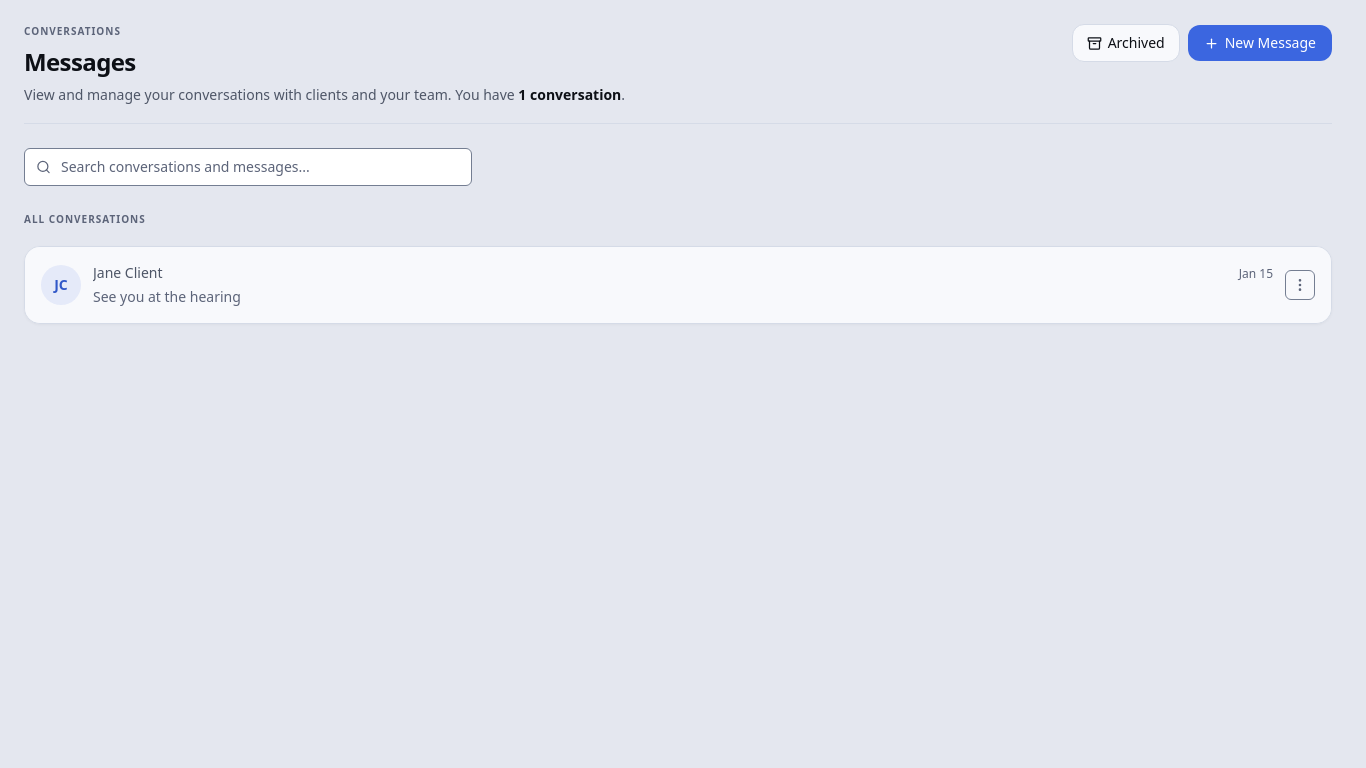
a refused action: the archive fails › tells the user the conversation was not archived, and leaves it in the inbox
Expected: the heading "Jane Client" is shown, [93,263,162,282]
Click the button named "Conversation actions": (1300, 285) [1285,270,1315,300]
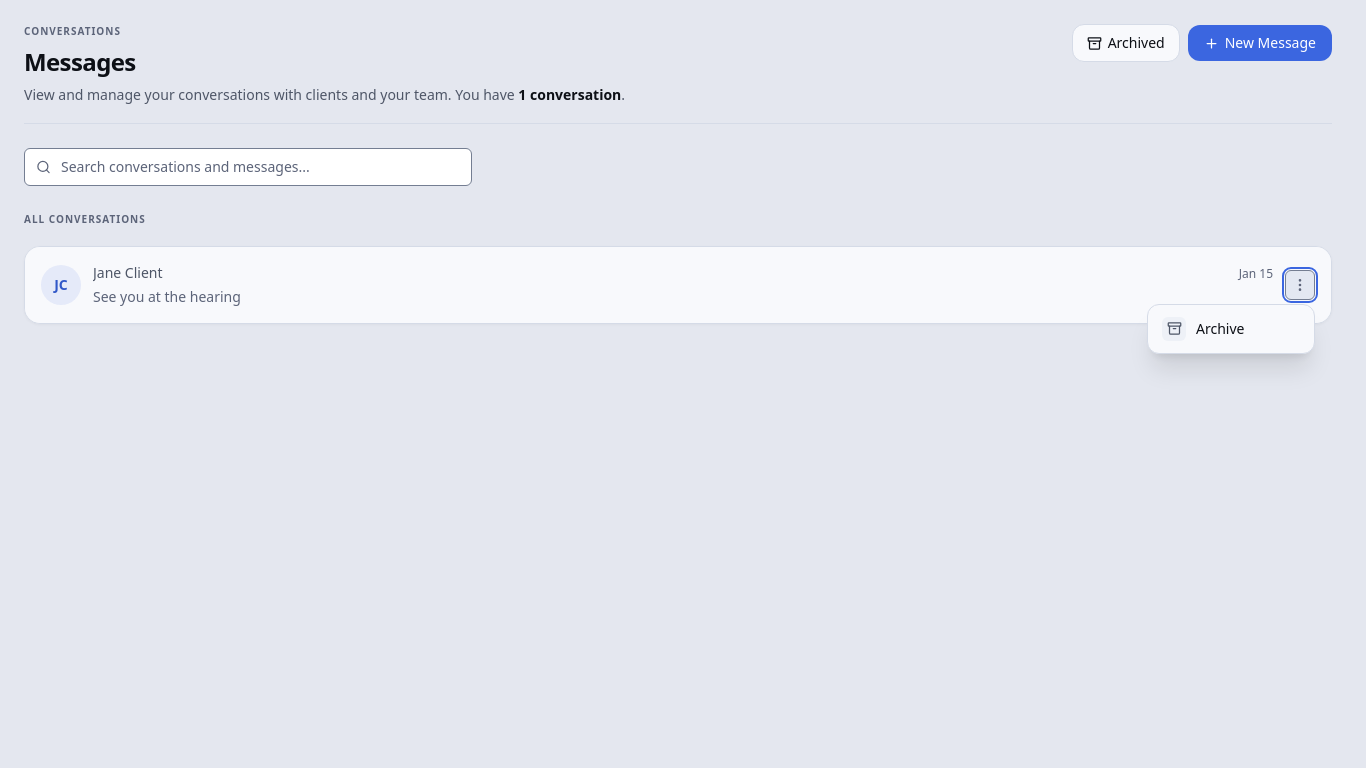
Click the menu item "Archive": (1231, 329) [1152,309,1310,349]
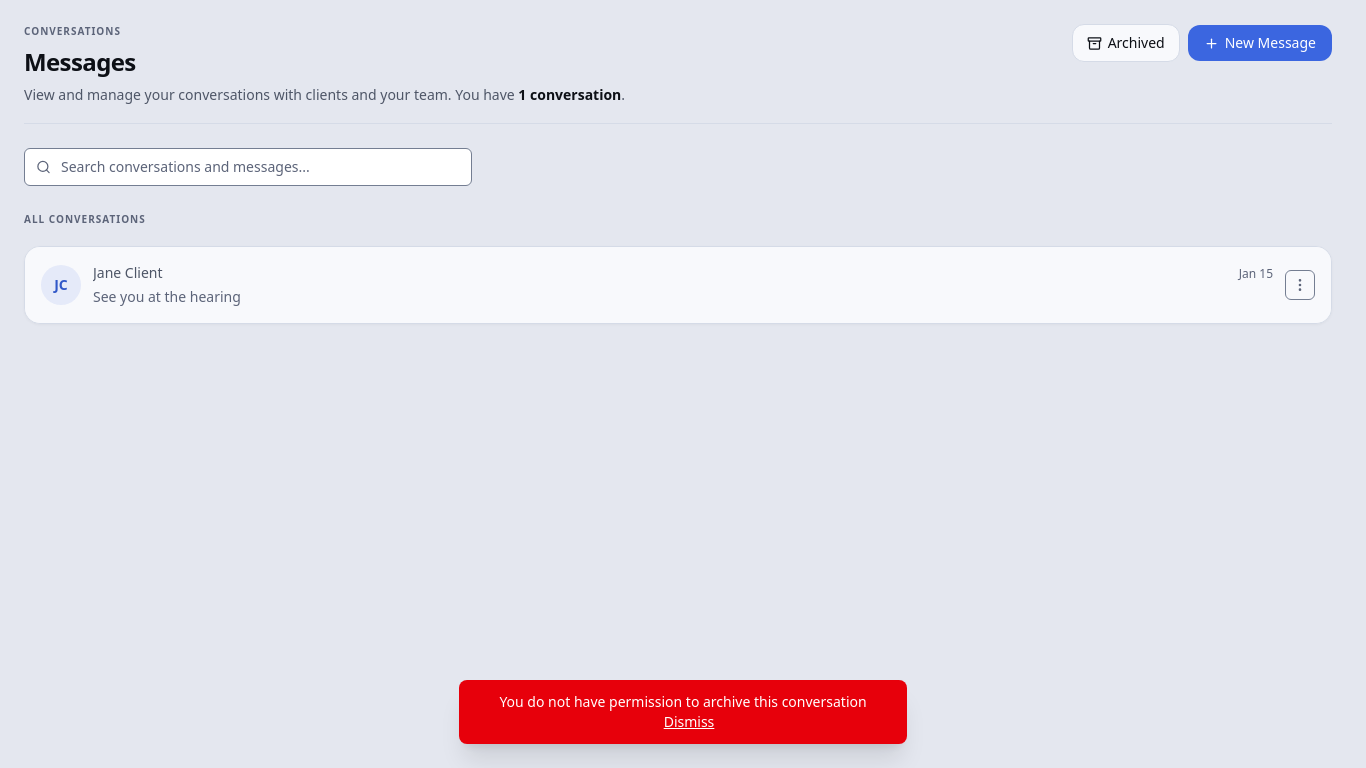
Expected: the heading "Jane Client" is shown, [93,263,162,282]
Expected: the text "You do not have permission to archive this conversation Dismiss" is shown, [459,680,907,744]
